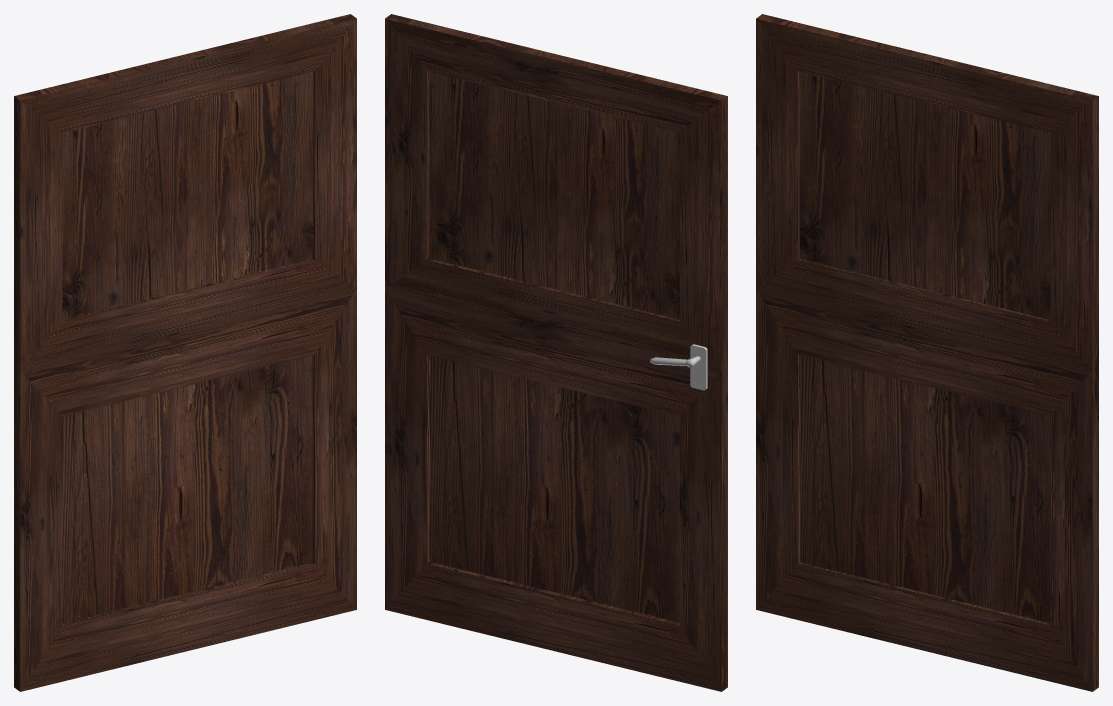
The model's file is WoodenDoorWithHandle.fbx.
3 renders of one model, left to right at view 1: azimuth 30°, elevation 25°; view 2: azimuth 150°, elevation 25°; view 3: azimuth 330°, elevation 25°, orthographic.
Visible parts, largest first — view 1: WoodenDoorWithHandle; view 2: WoodenDoorWithHandle; view 3: WoodenDoorWithHandle.
Part boxes in pixels (box(x1,y1,x2,y2)): WoodenDoorWithHandle: box(14, 14, 356, 691); WoodenDoorWithHandle: box(385, 14, 727, 691); WoodenDoorWithHandle: box(756, 14, 1098, 691).
Size of the model in its own units: 104 by 175 by 8.38.
